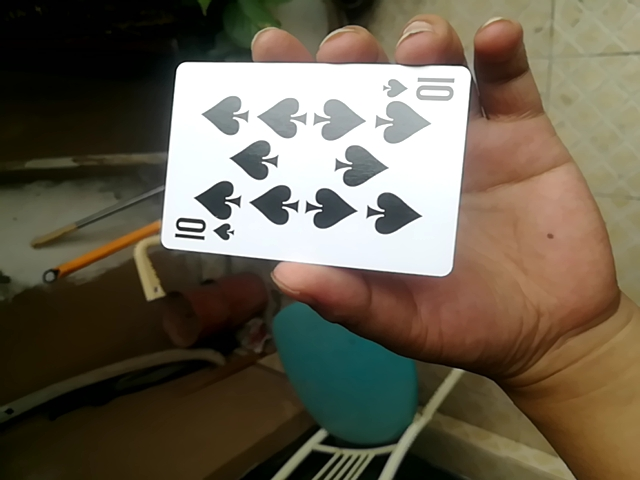ht 10: (157, 57, 471, 279)
